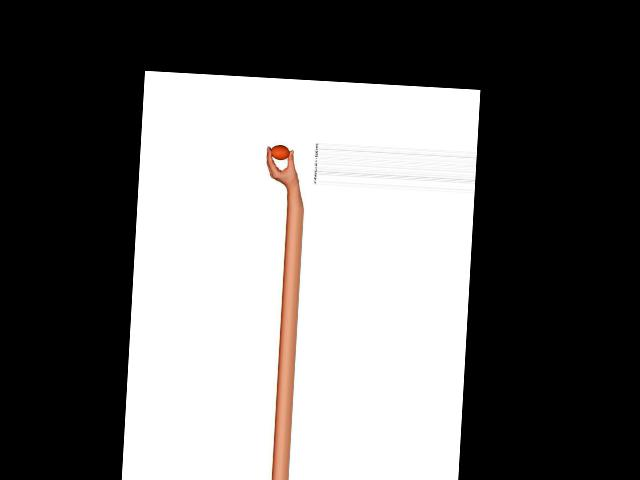egg: (269, 144, 290, 159)
